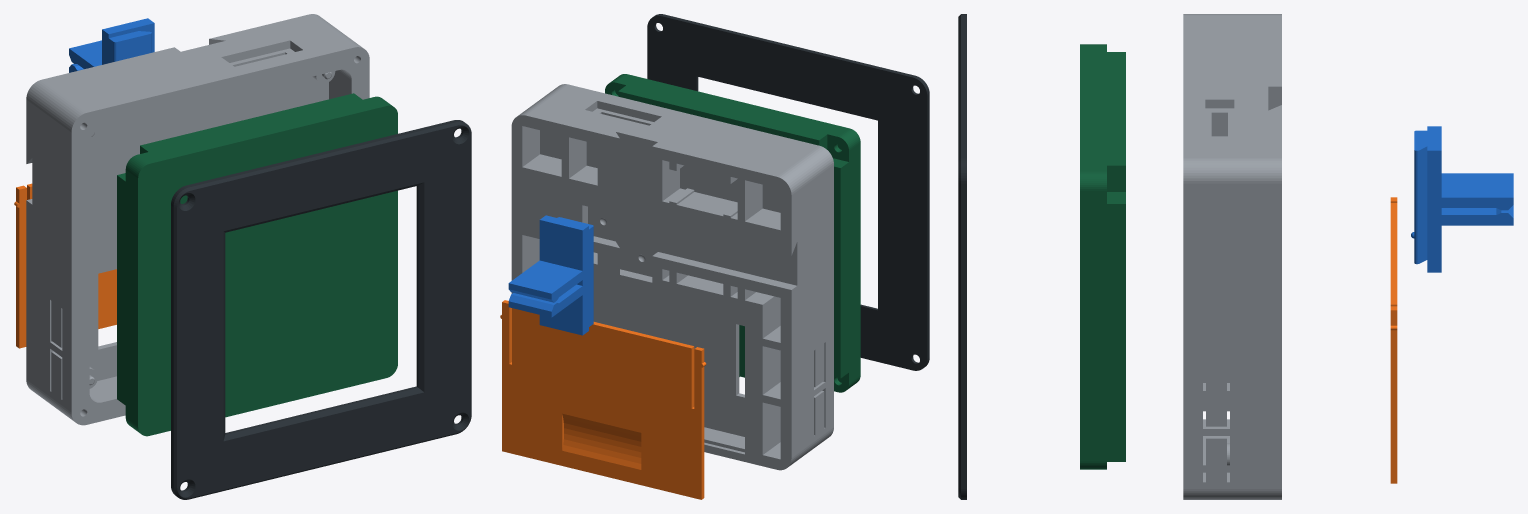
The model's file is assembly_exploded.glb.
The picture shows the model from 3 angles, left to right: view 1: azimuth 30°, elevation 25°; view 2: azimuth 150°, elevation 25°; view 3: azimuth 270°, elevation 25°; orthographic projection. The views are drawn at different scales.
Parts seen in each view (by area): view 1: board_dummy, front_bezel, body, battery_door, vent_clip; view 2: body, battery_door, front_bezel, board_dummy, vent_clip; view 3: body, board_dummy, vent_clip, front_bezel, battery_door.
Part boxes in pixels (x1,y1,x2,y2): board_dummy: (117, 93, 397, 436); front_bezel: (171, 120, 471, 499); body: (26, 14, 369, 425); battery_door: (14, 183, 116, 348); vent_clip: (69, 18, 154, 72); body: (511, 84, 833, 470); battery_door: (500, 300, 706, 499); front_bezel: (647, 14, 929, 370); board_dummy: (605, 74, 860, 392); vent_clip: (508, 215, 593, 335); body: (1183, 14, 1281, 499); board_dummy: (1080, 44, 1125, 469); vent_clip: (1411, 126, 1513, 272); front_bezel: (958, 14, 966, 499); battery_door: (1390, 197, 1397, 483).
Size of the model in its own units: 0.078 by 0.078 by 0.1155.
